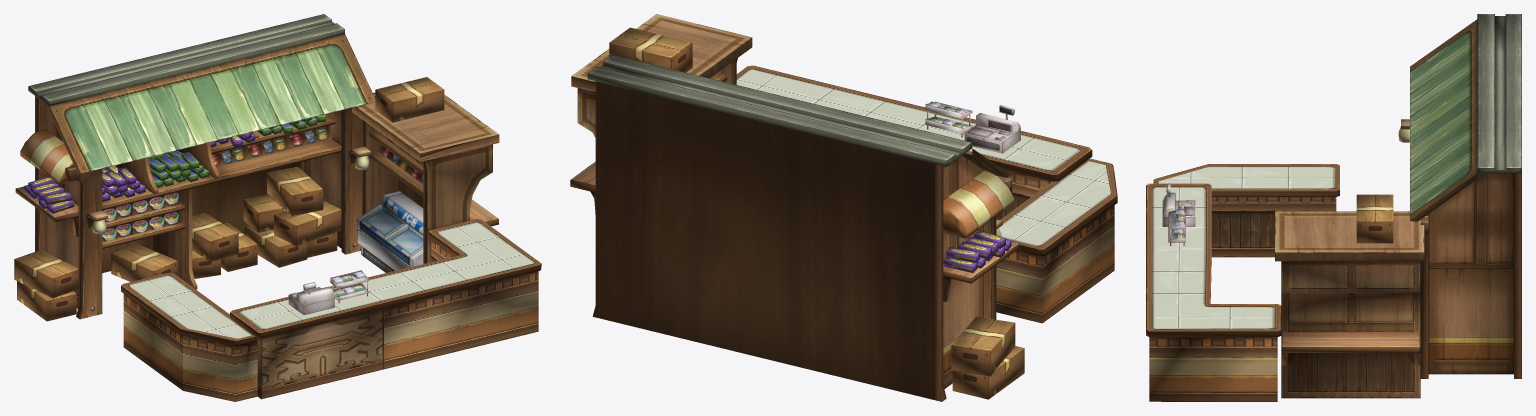
File: a_SWIbooth01.glb
3 views of the same model, side by side, from view 1: azimuth 30°, elevation 25°; view 2: azimuth 150°, elevation 25°; view 3: azimuth 270°, elevation 25° (orthographic). The views are drawn at different scales.
Visible parts, largest first — view 1: a_SWIbooth01; view 2: a_SWIbooth01; view 3: a_SWIbooth01.
Part boxes in pixels (box(x1,y1,x2,y2)): a_SWIbooth01: box(14, 14, 541, 401); a_SWIbooth01: box(570, 14, 1117, 401); a_SWIbooth01: box(1146, 14, 1521, 401).
Bounding box in the file's own units: 5.82 × 2.9 × 4.64.
Materials: 6 (6 with a texture image).
